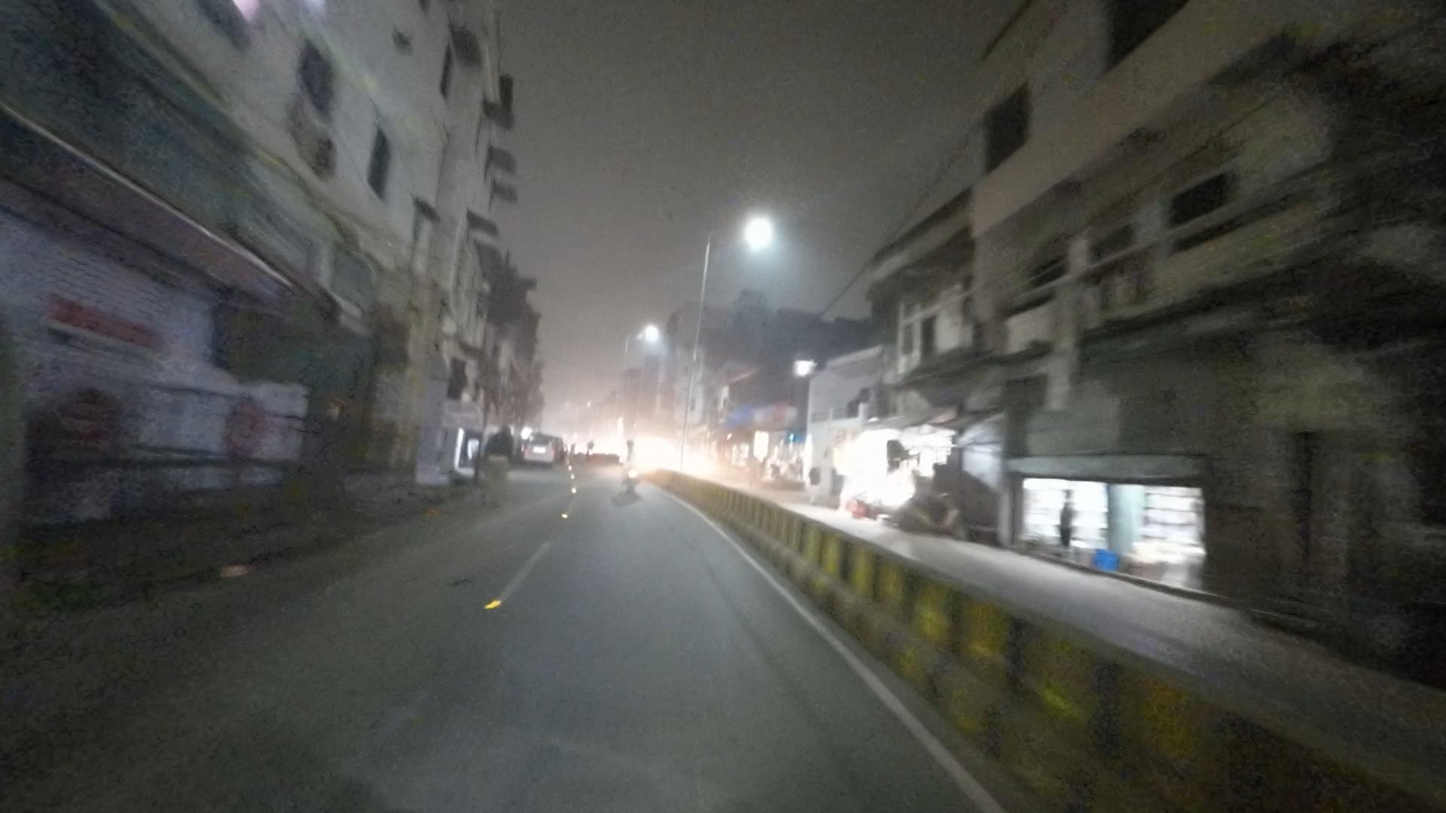streetlight: (655, 203, 704, 228)
